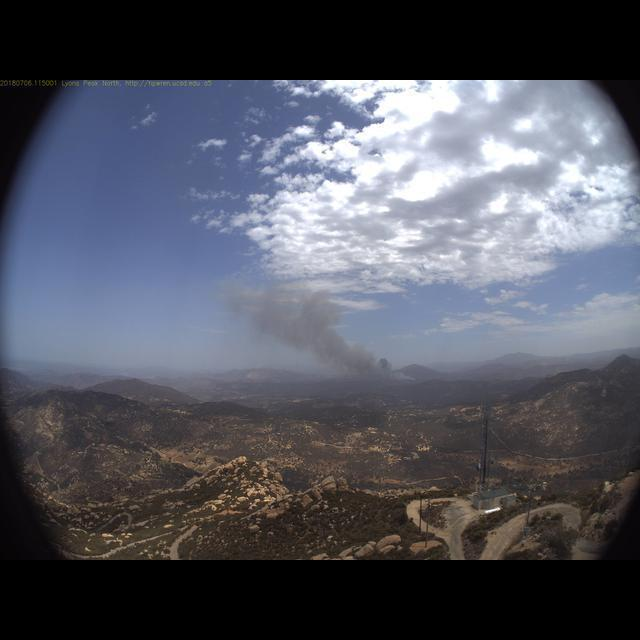Smoke: (214, 247, 440, 406)
